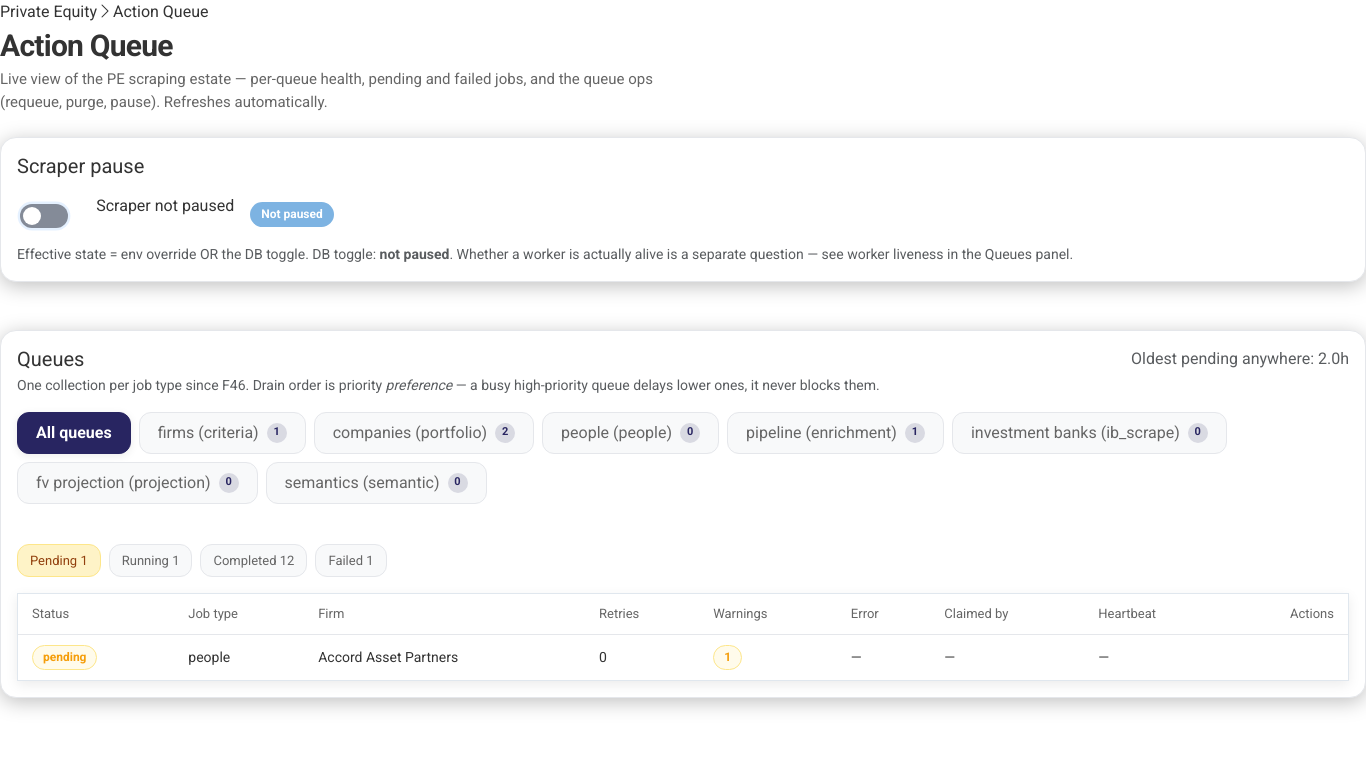
it: PEActionQueuePage › round-trips the pause toggle
The width and height of the screenshot is (1366, 768).
Click the switch labelled "Scraper not paused" at coordinates (44, 216), box [20, 204, 68, 228]
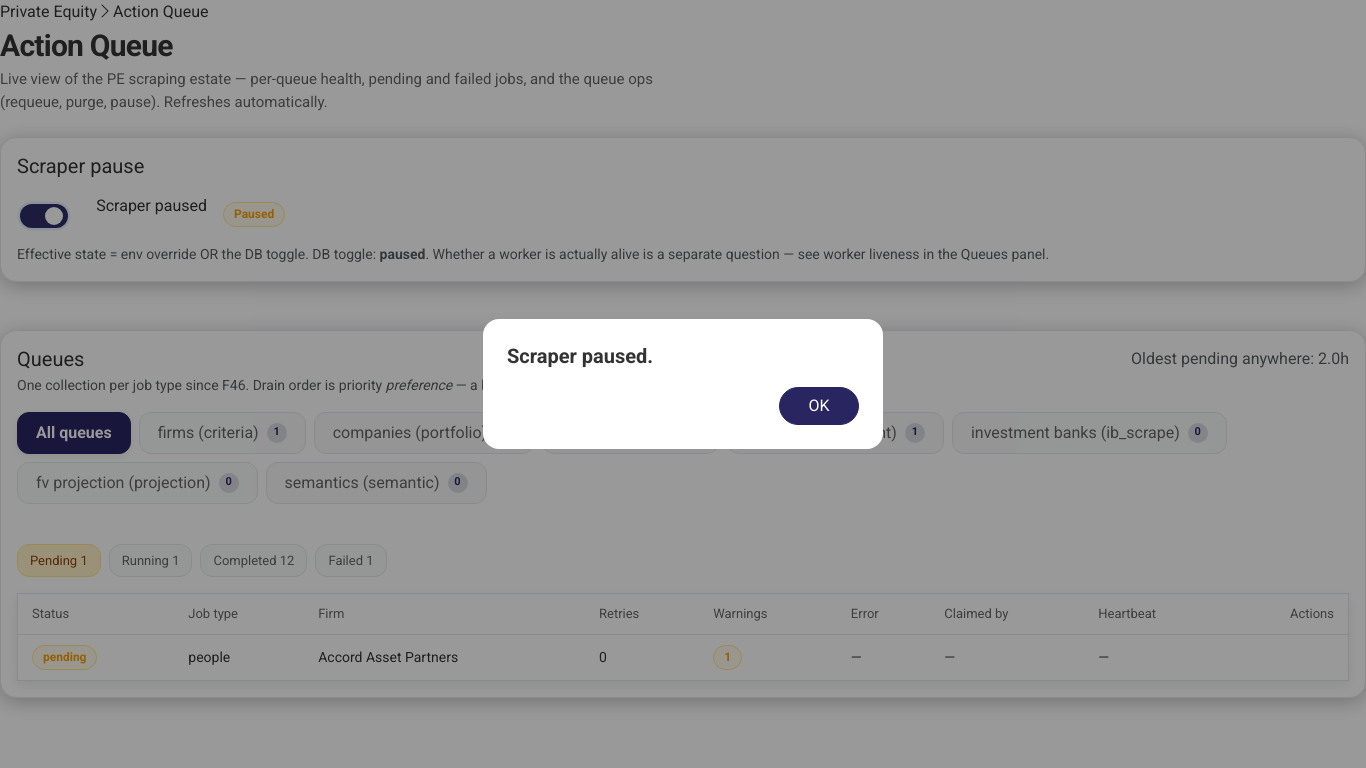
Now the heading "Scraper paused." is shown, box [507, 344, 653, 368]
